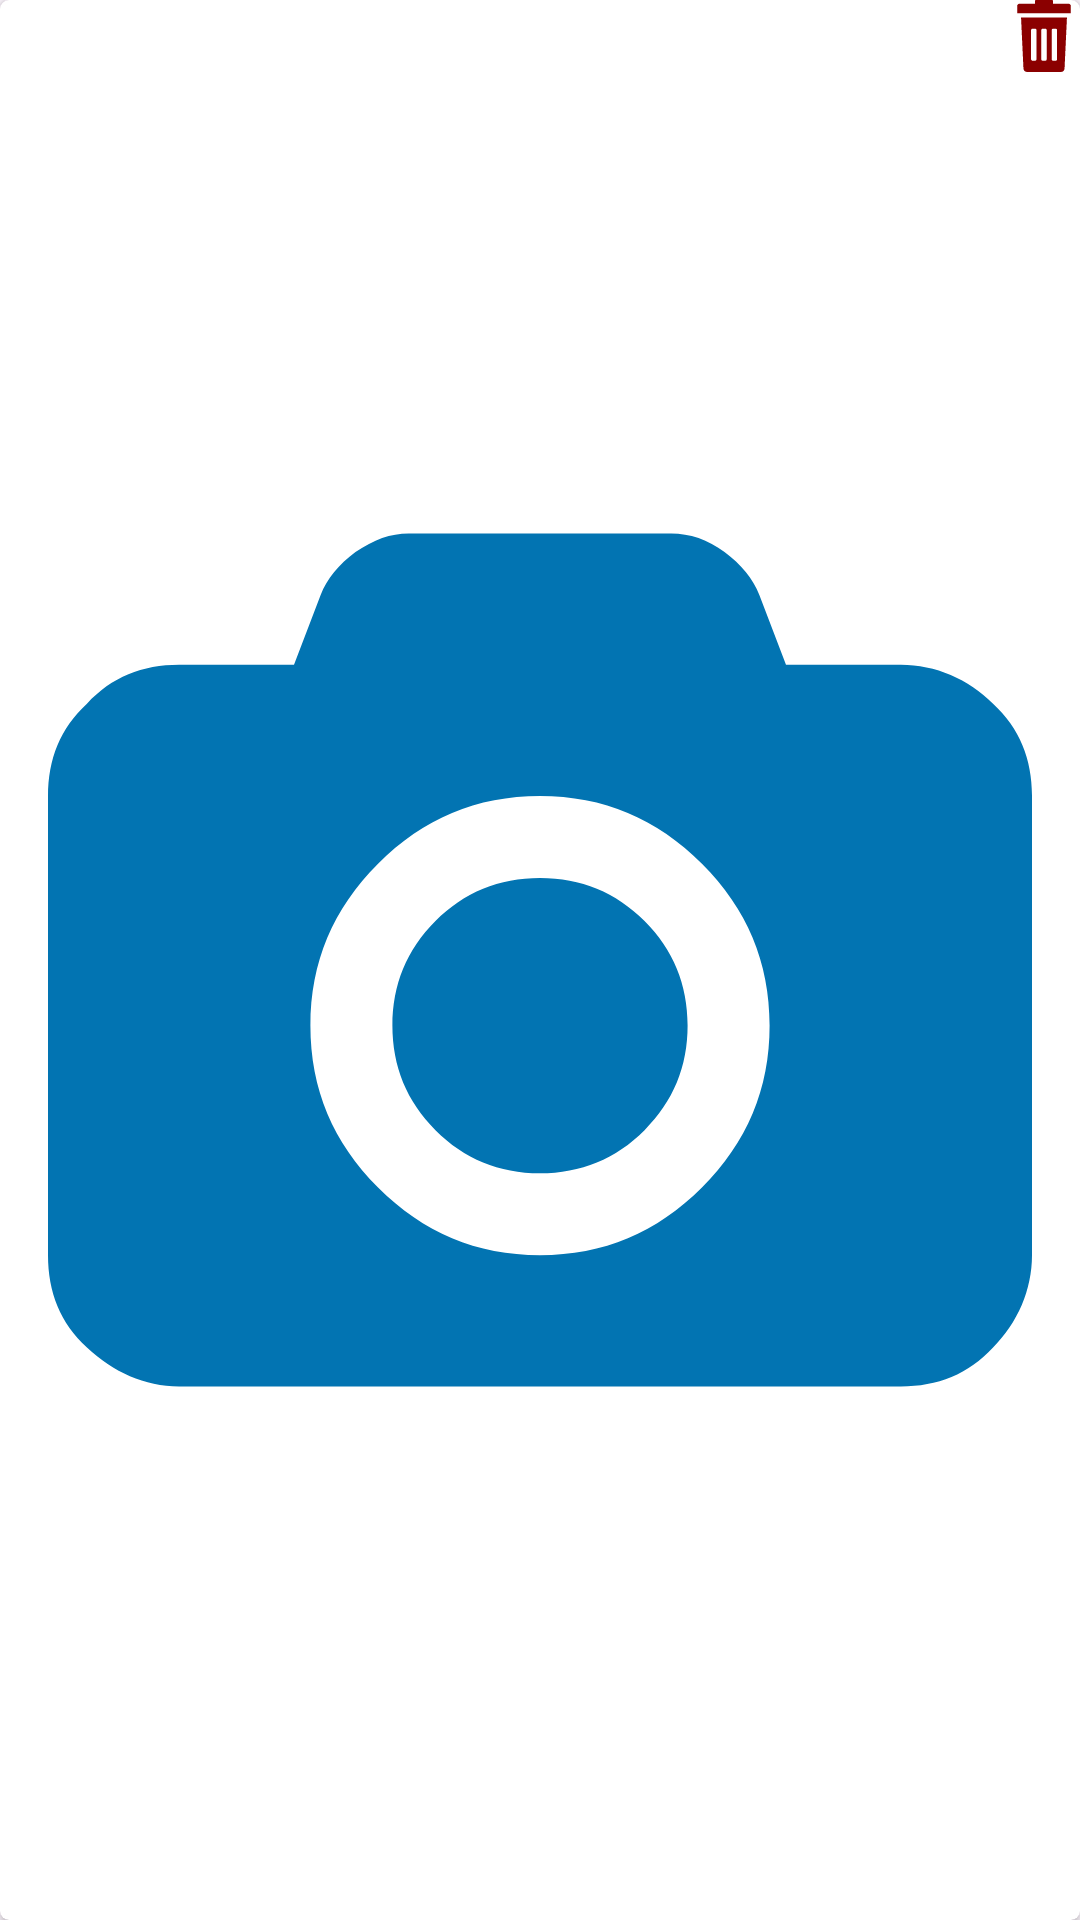

Named icons in this screenshot (1080 × 1920) and their bounding boxes, [x1=x1, y1=y1, x2=x2, y2=y2]:
delete: [x1=1017, y1=0, x2=1080, y2=72]
